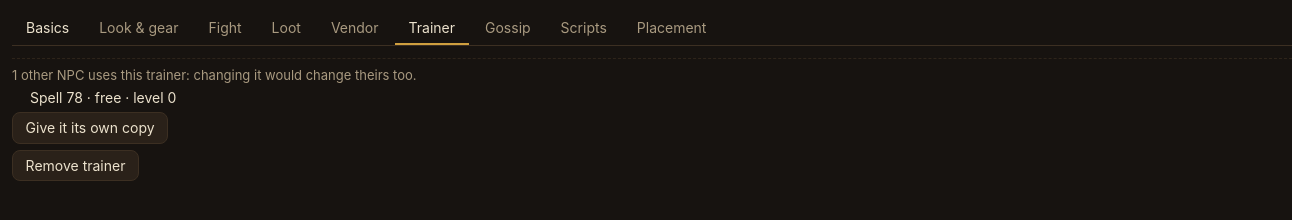
Scenario: the Trainer tab › says so, and changes nothing, when its own copy could not get an id
Check: the text "1 other NPC uses this trainer" is shown, box [12,67,186,83]
Click the button "Give it its own copy": click(90, 128) [12,112,168,144]
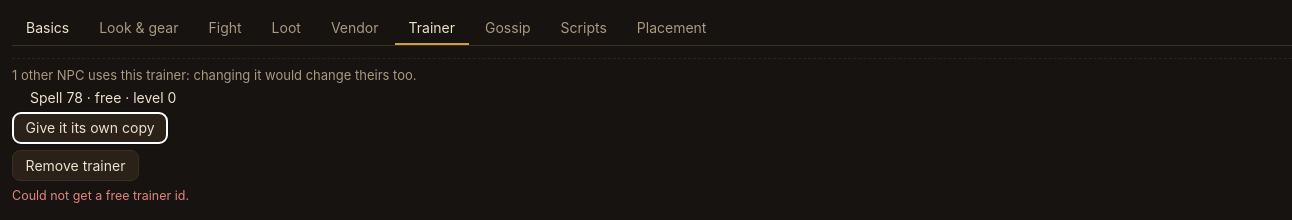
Check: the message reads "Could not get a free trainer id.", box [12,188,189,203]
